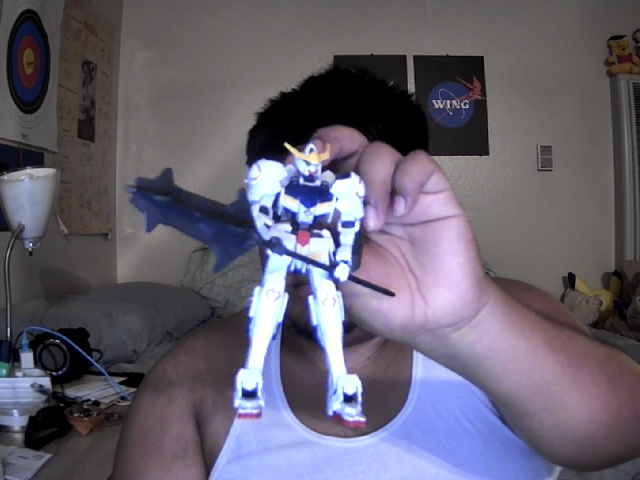Barbatos: (125, 140, 396, 432)
